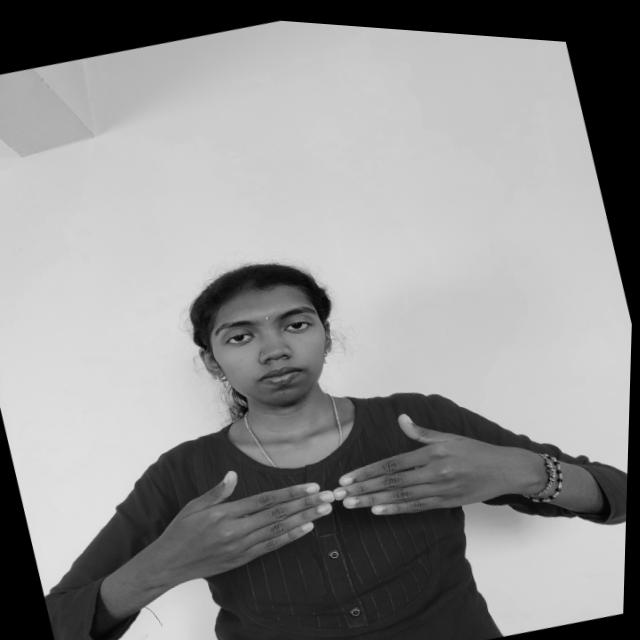Night: (119, 357, 549, 622)
